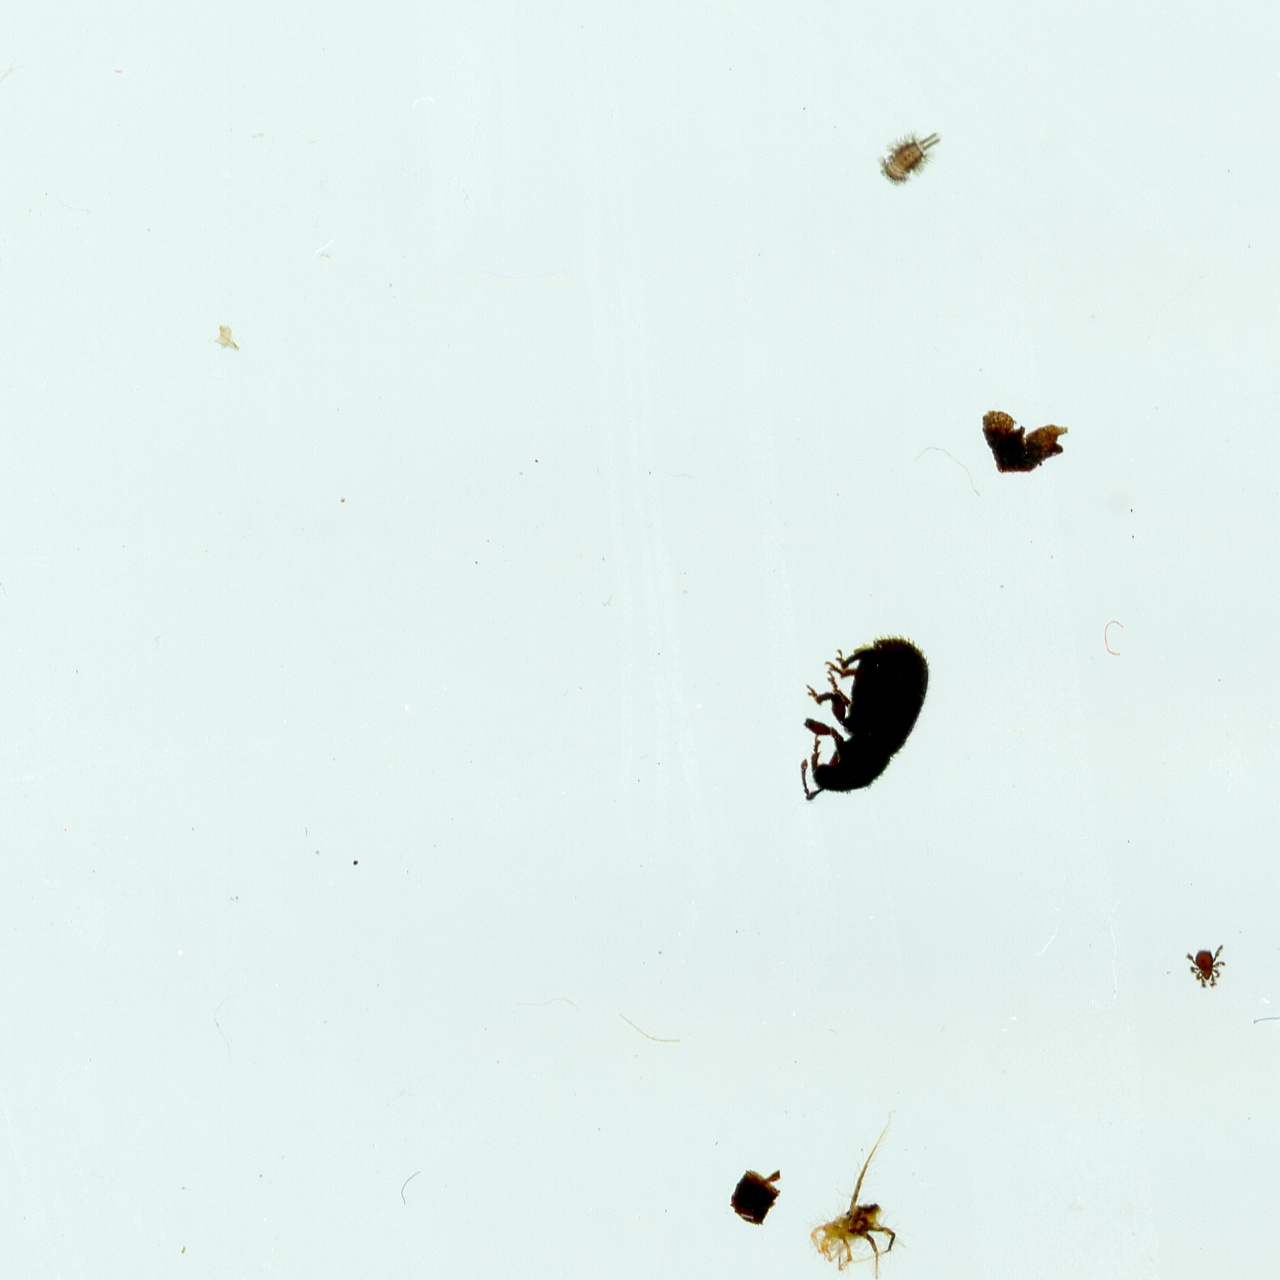arthropod: (755, 604, 954, 838), (801, 1108, 920, 1280), (873, 125, 945, 195), (1182, 940, 1231, 993)
